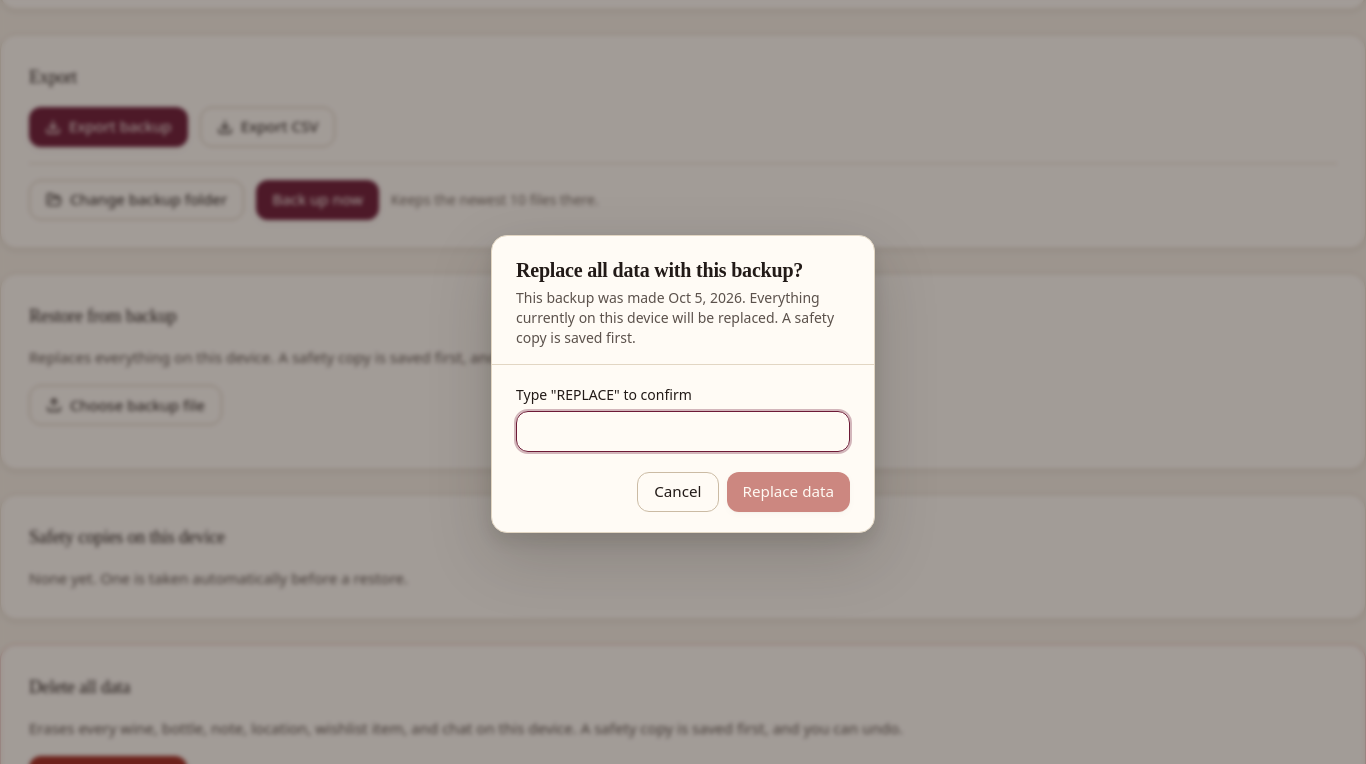
BackupPage › restores a backup after typing REPLACE, taking a safety snapshot first
Earlier steps of the test are not shown.
(page scrolled)
Expected: the heading "Replace all data with this backup?" is shown, [516,256,850,284]
Expected: the button "Replace data" is disabled, [726,472,850,512]
Type "REPLACE" into the field labelled "Type \"REPLACE\" to confirm" at (683, 431), box [516,411,850,452]
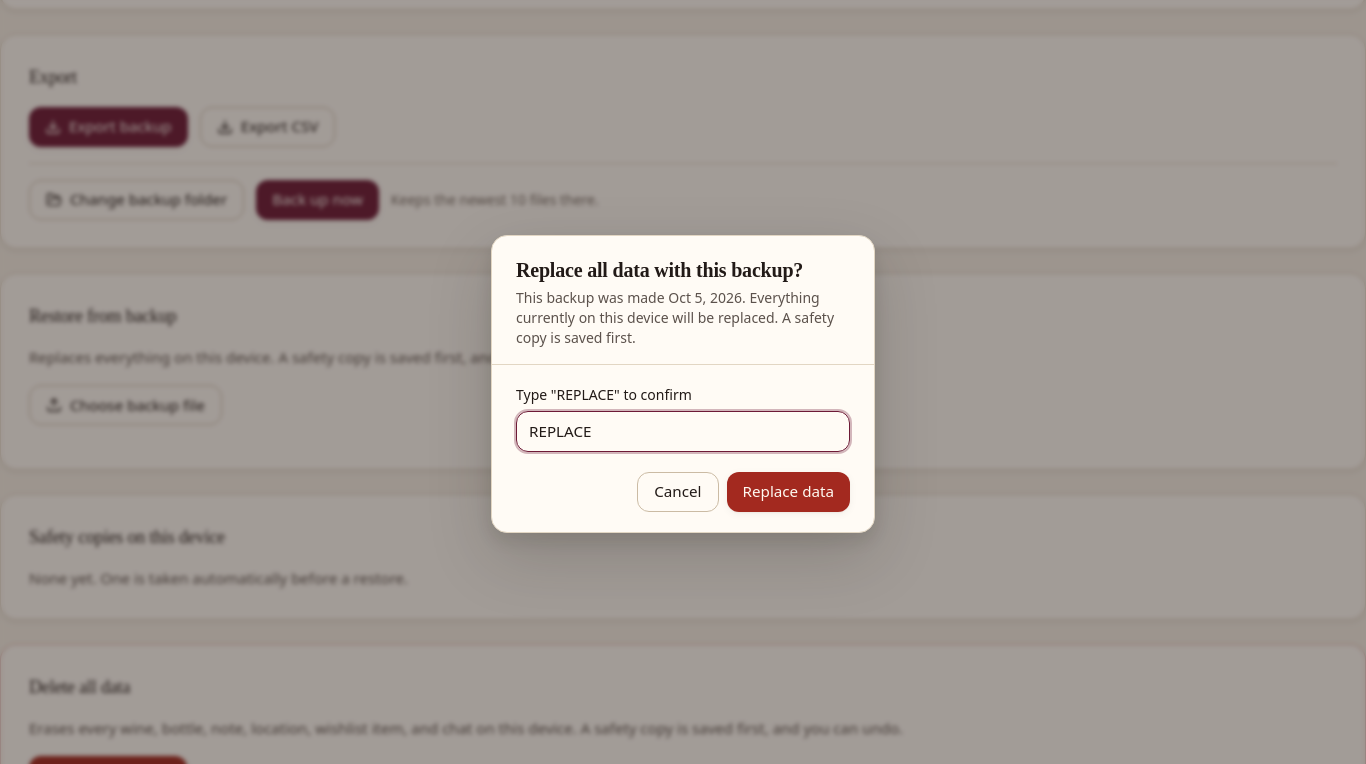
Expected: the button "Replace data" is enabled
Click the button "Replace data" at (788, 492), box [726,472,850,512]
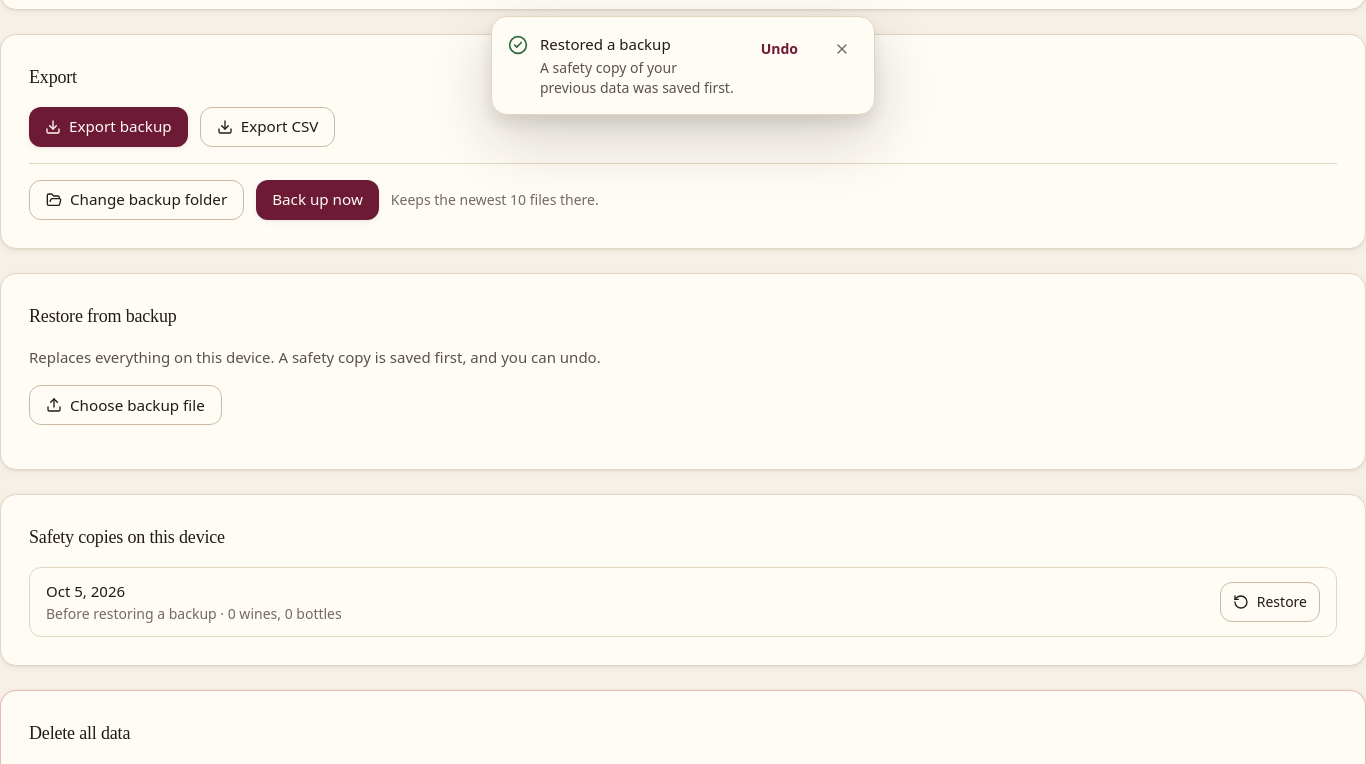
Expected: the text "Restored a backup" is shown, [540,34,671,54]
